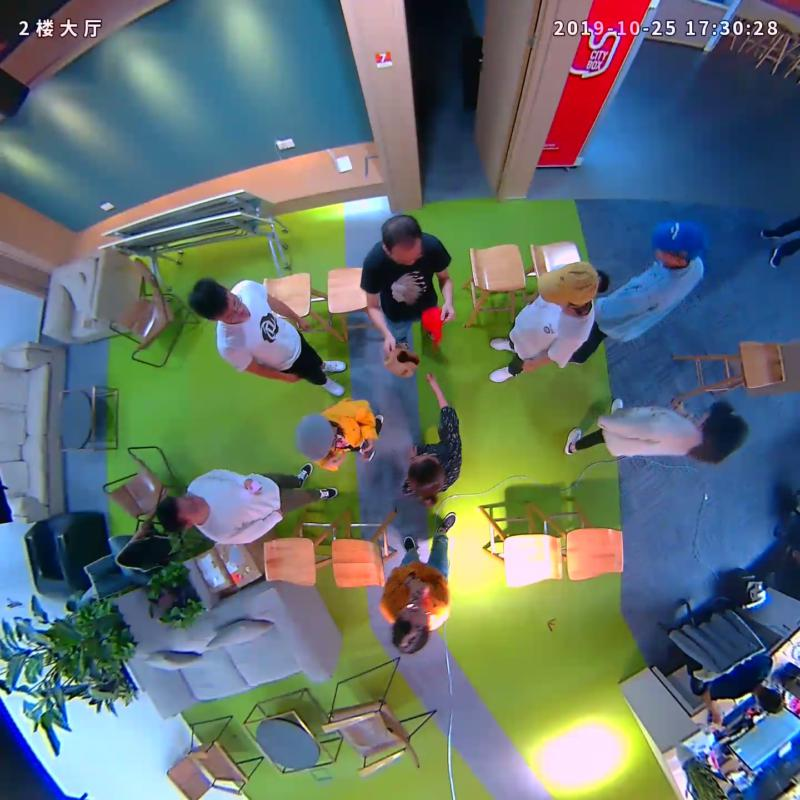head: (537, 260, 601, 307), (188, 277, 249, 322), (651, 219, 704, 267), (700, 399, 748, 448), (155, 492, 209, 533), (294, 415, 338, 463), (381, 214, 422, 265), (391, 604, 431, 656), (406, 451, 443, 494)
